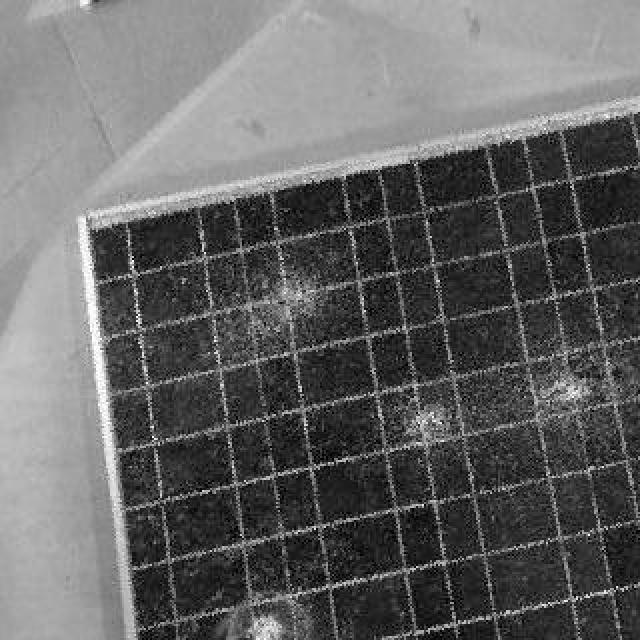Physical-damage: (166, 240, 357, 379), (203, 538, 348, 640), (382, 374, 488, 485), (523, 330, 608, 452)
